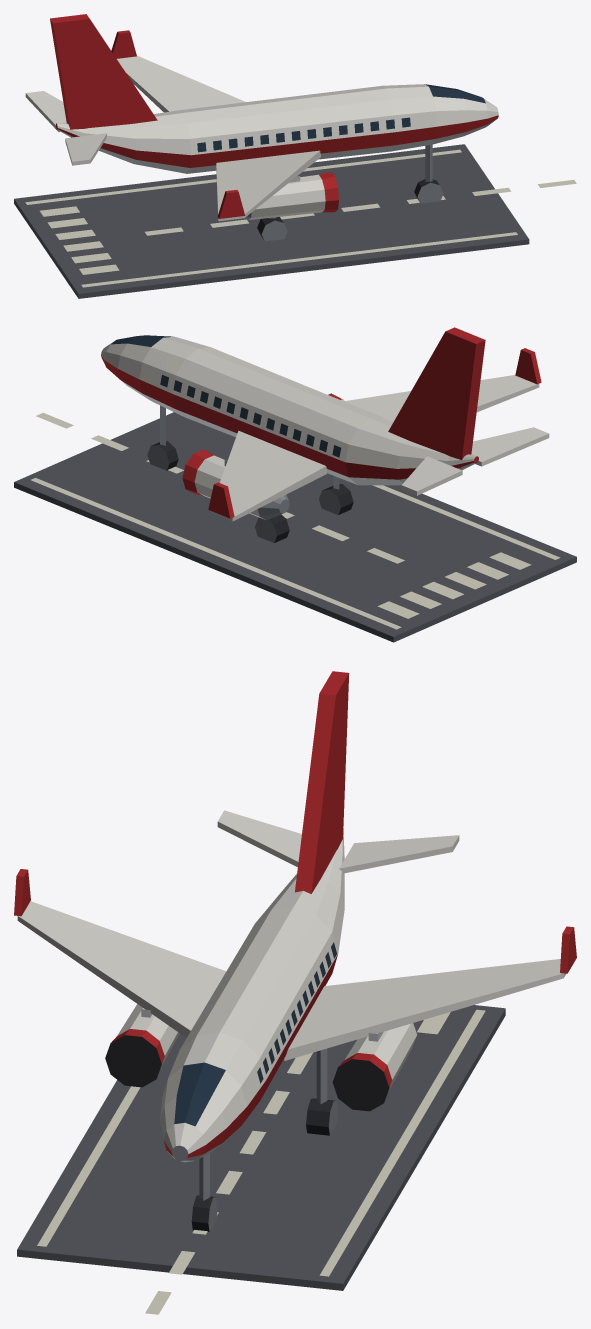
The model's file is special-escale.glb.
The picture shows the model from 3 angles, top to bottom: view 1: azimuth 30°, elevation 25°; view 2: azimuth 150°, elevation 25°; view 3: azimuth 270°, elevation 25°; orthographic projection. The views are drawn at different scales.
Visible parts, largest first — view 1: special-escale; view 2: special-escale; view 3: special-escale.
Boxes of the visible parts, x1=… form: special-escale: x1=14, y1=14, x2=576, y2=298; special-escale: x1=14, y1=327, x2=576, y2=642; special-escale: x1=14, y1=671, x2=576, y2=1314.
Size of the model in its own units: 1.78 by 0.7998 by 1.24.
